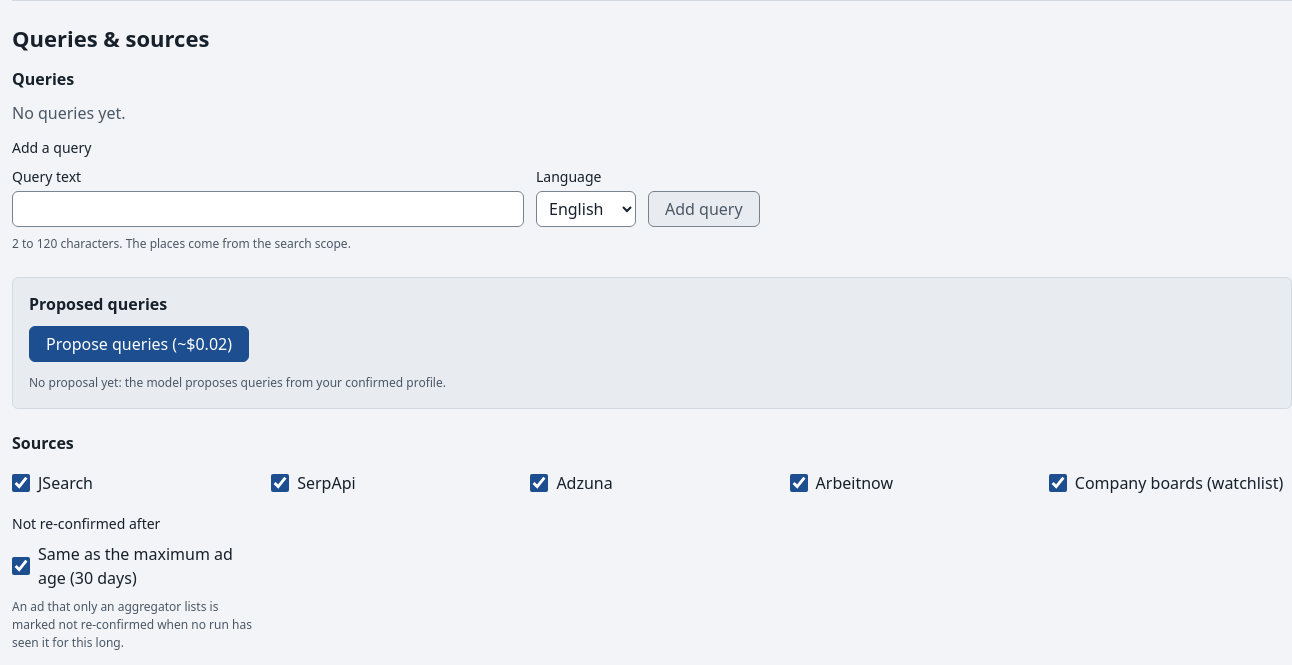
ProposalPanel › a keyed POST then polling to ready and Add
Later steps or results of the test are not shown.
Click the button "Propose queries (~$0.02)" at {"x": 139, "y": 344}, box [29, 326, 249, 362]
Wait 15000 ms
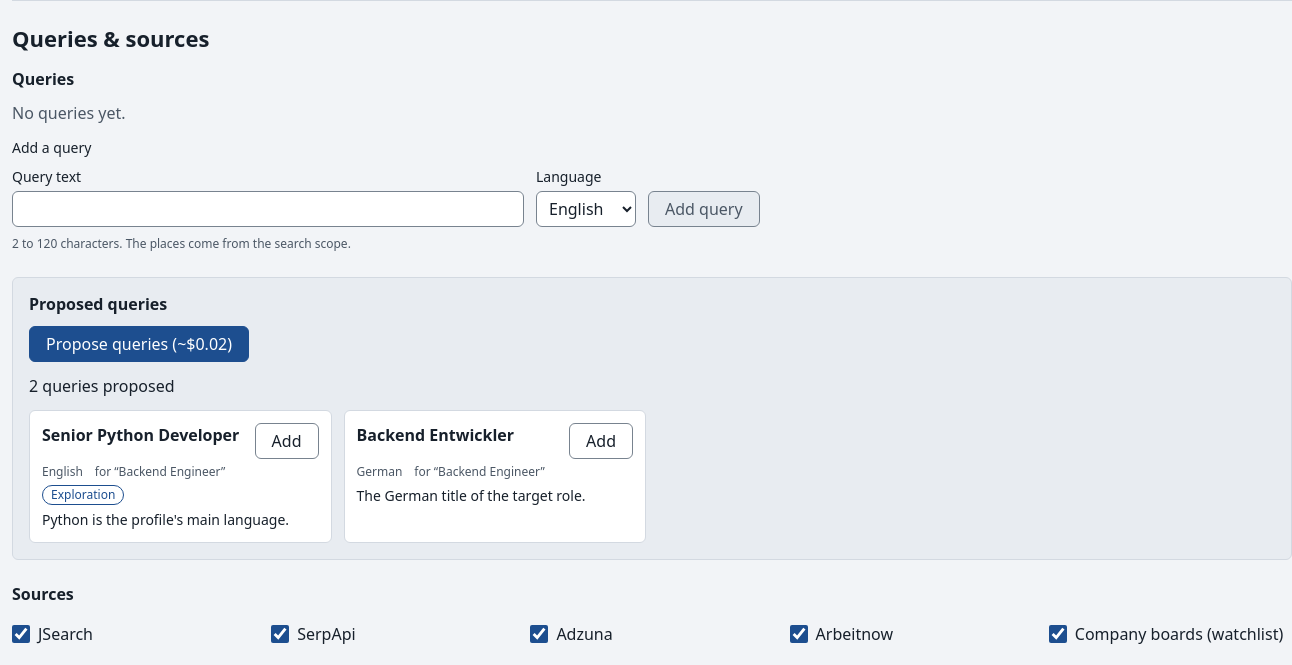
Expected: the list item that starts with "Senior Python Developer" shows "Backend Engineer", [95, 462, 225, 480]
Expected: the list item that starts with "Senior Python Developer" shows "Python is the profile's main language.", [42, 510, 289, 528]
Expected: the list item that starts with "Senior Python Developer" shows "Exploration", [51, 486, 115, 502]
Click the button with aria-label "Add “Senior Python Developer”" at {"x": 287, "y": 440}, box [255, 422, 318, 458]
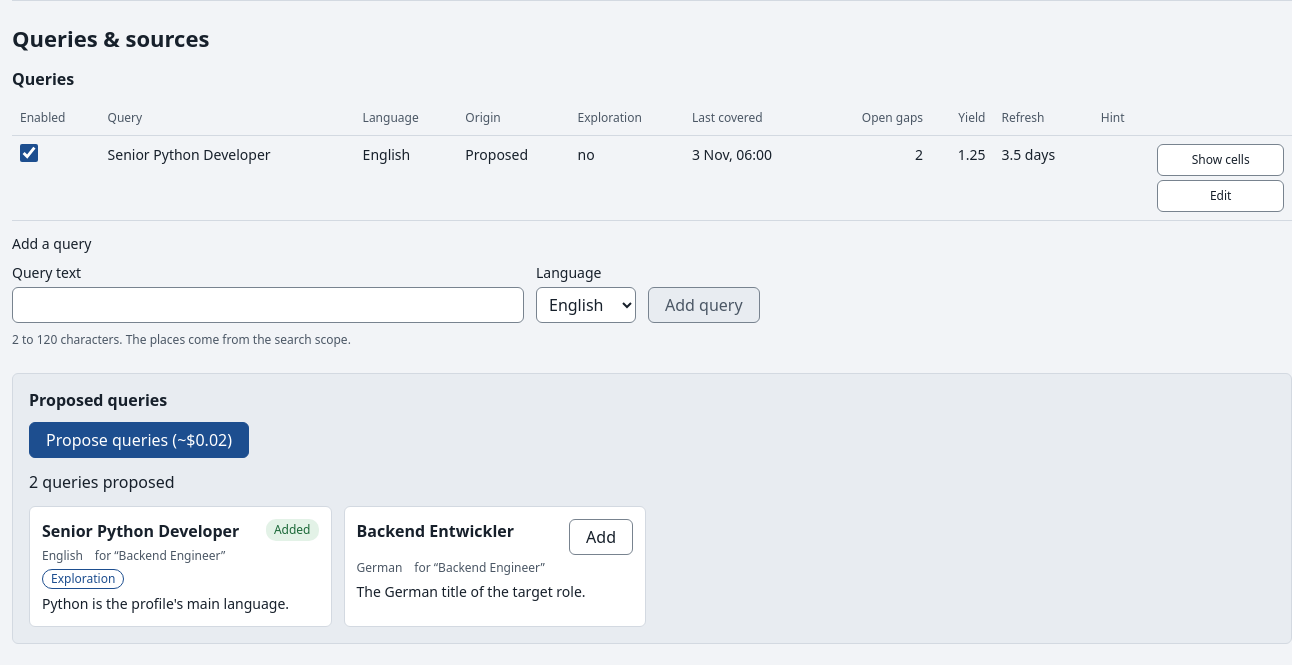
Expected: the button with aria-label "Add “Backend Entwickler”" is shown, [569, 518, 633, 554]
Expected: the text "Added" is shown, [266, 518, 318, 540]
